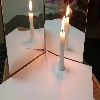fire: (61, 15, 65, 34)
